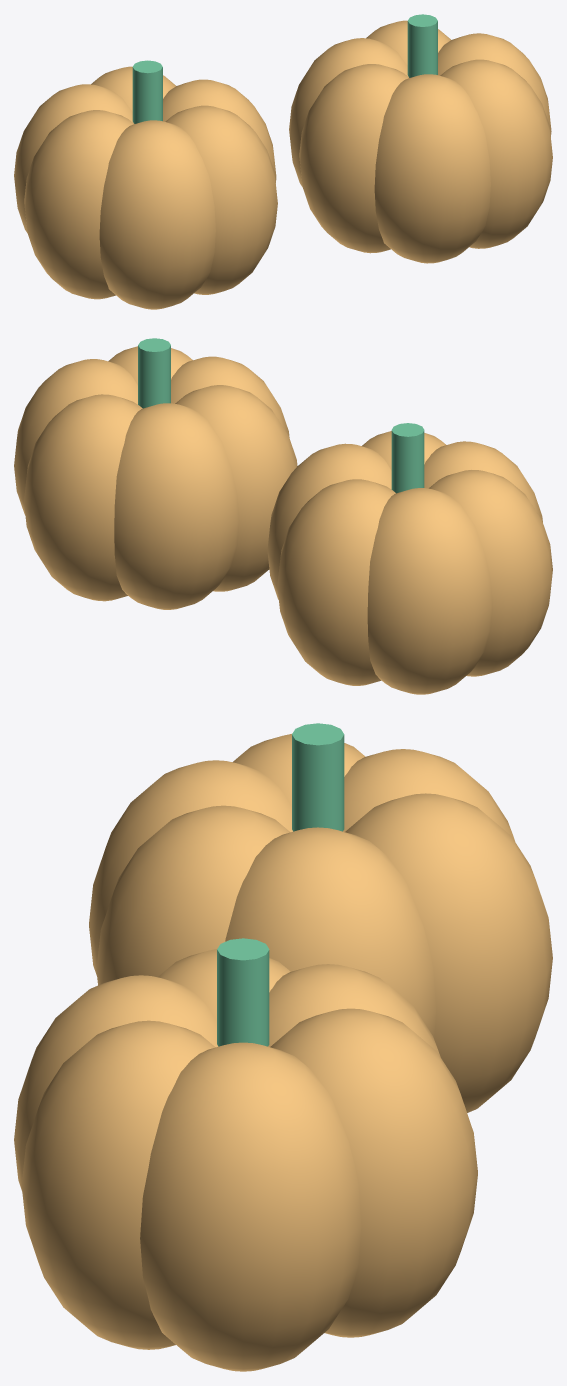
File: rp_pumpkins.glb
3 views of the same model, one above another, from view 1: azimuth 30°, elevation 25°; view 2: azimuth 150°, elevation 25°; view 3: azimuth 270°, elevation 25° (orthographic). The views are drawn at different scales.
Visible parts, largest first — view 1: Pumpkins; view 2: Pumpkins; view 3: Pumpkins.
Boxes of the visible parts, x1,y1,x2,y2 form: Pumpkins: (14,14,552,309); Pumpkins: (14,338,552,694); Pumpkins: (14,723,552,1371).
Size of the model in its own units: 1.32 by 0.54 by 0.7202.
